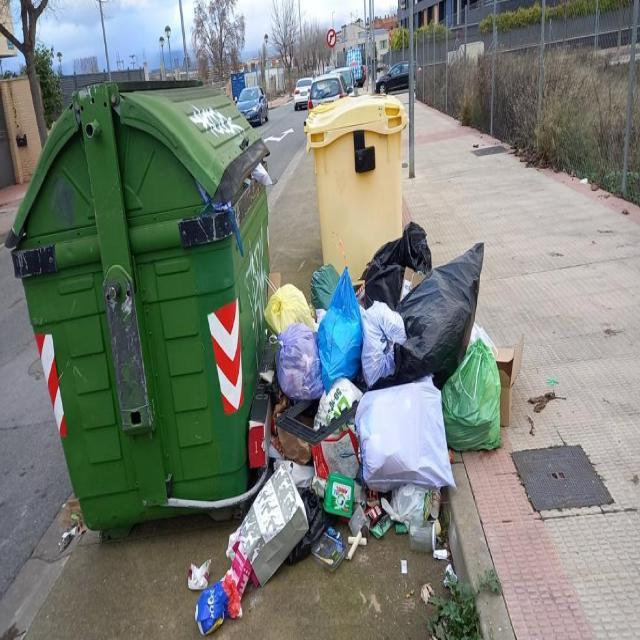garbage: (228, 219, 525, 596), (177, 540, 250, 640)
